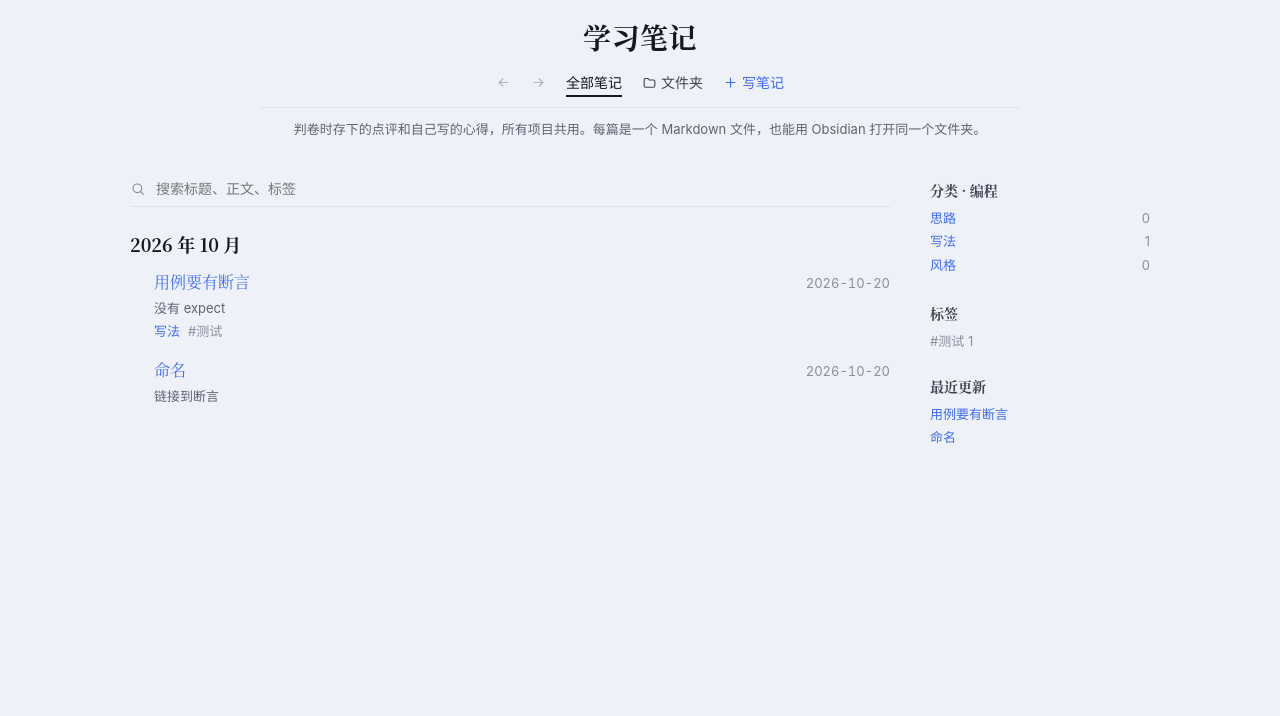
NotesView › editing a rename asks to update links, then returns to reading
Click the link with class "post-title" below "2026 年 10 月" at (202, 281), box x1=154 y1=270 x2=250 y2=292
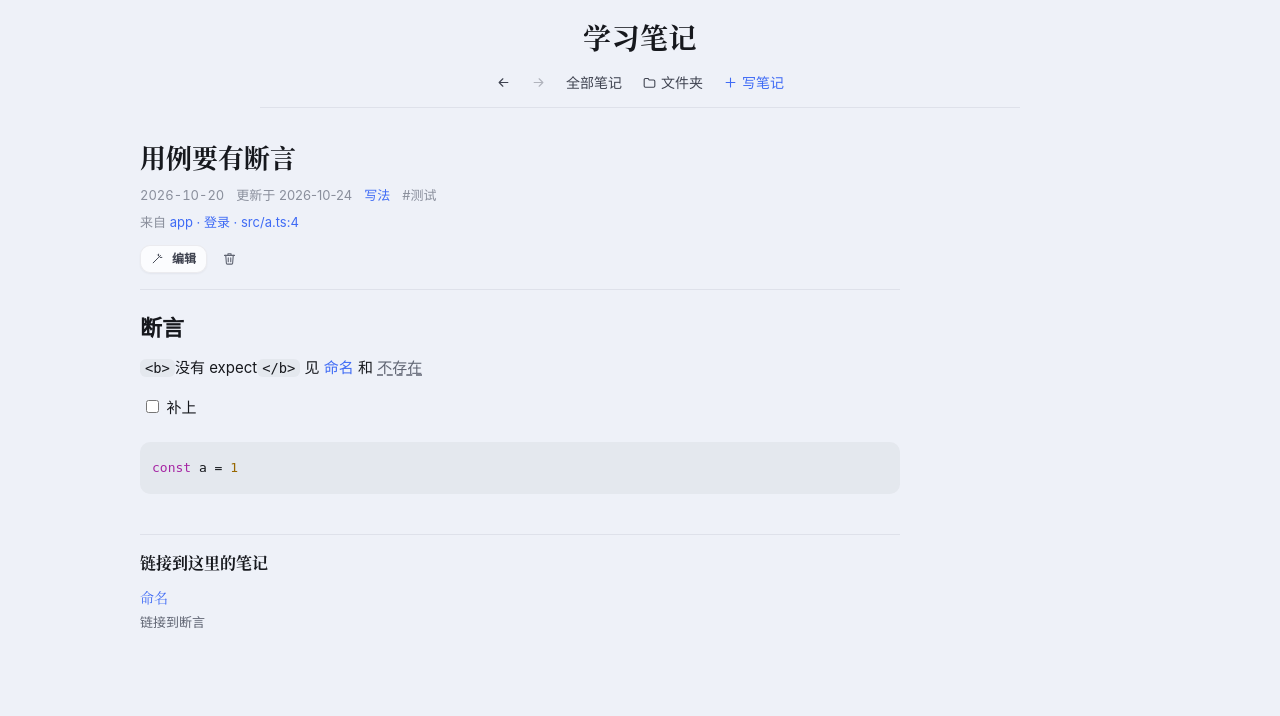
Click the button "编辑" at (174, 259), box x1=140 y1=245 x2=207 y2=273
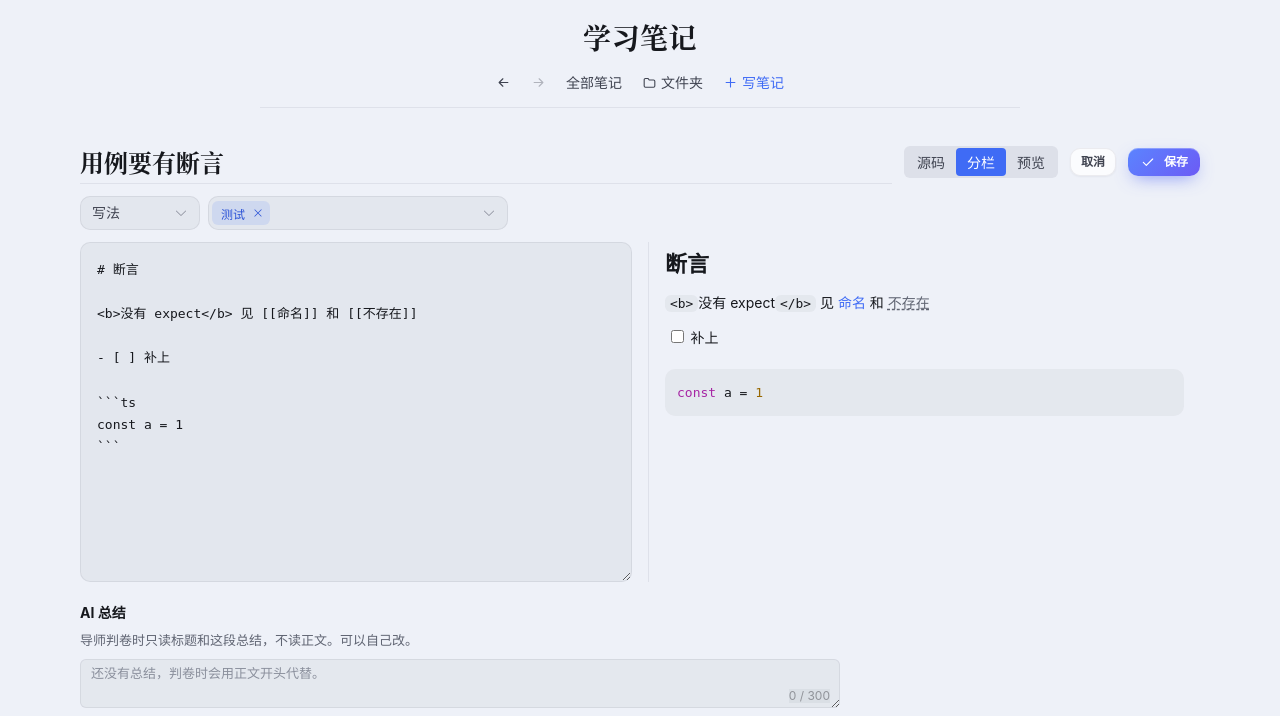
Replace the text in the field with class "note-title-input" with "断言" at (486, 162), box x1=80 y1=140 x2=892 y2=184
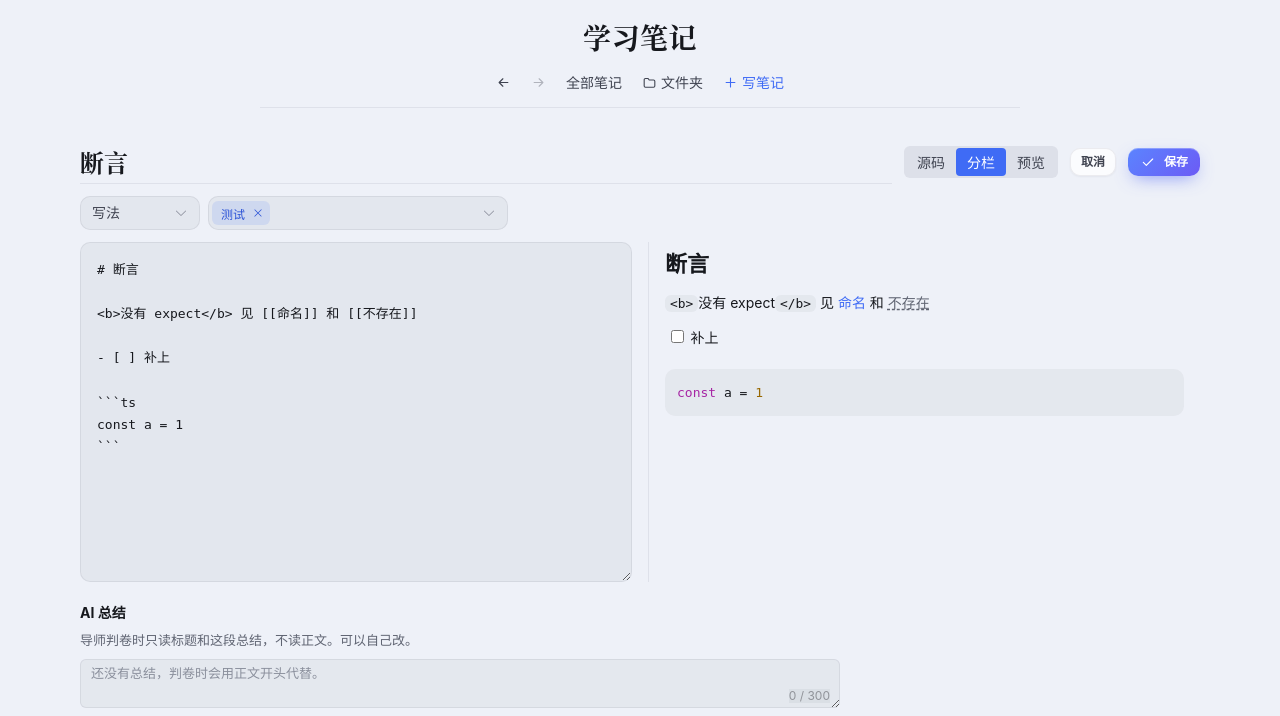
Click the button "保存" at (1164, 162), box x1=1128 y1=148 x2=1200 y2=176
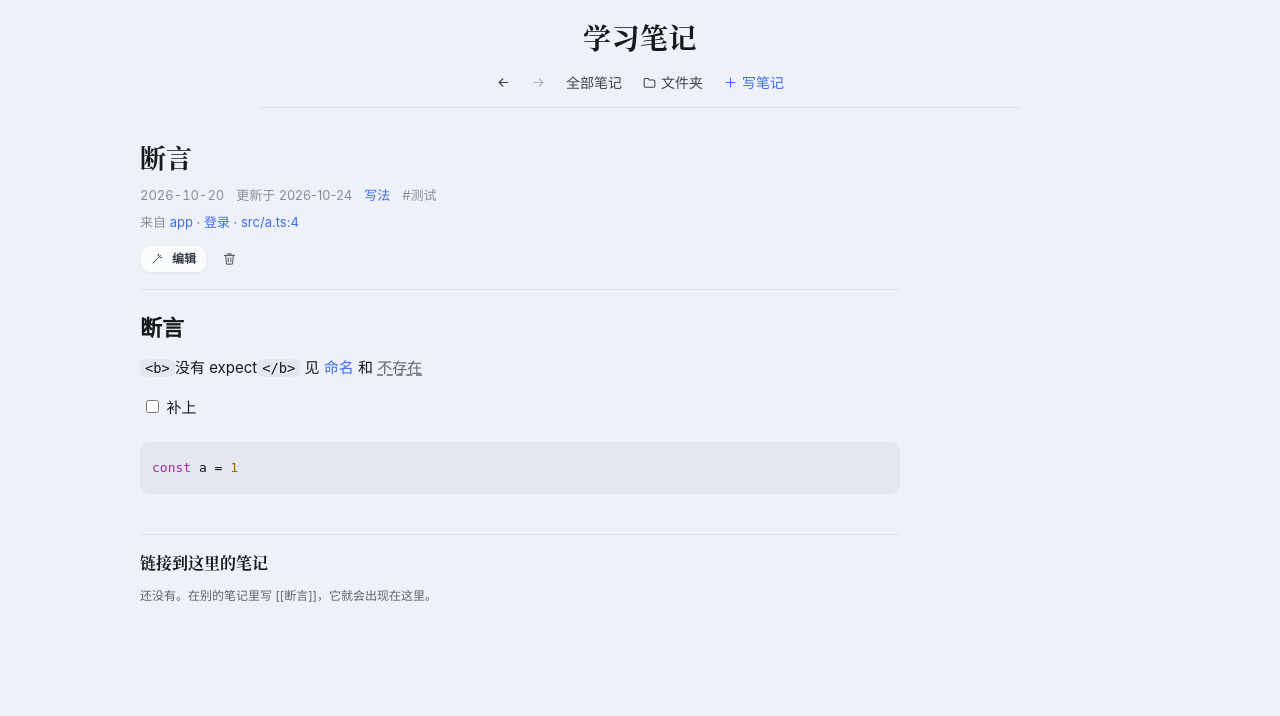
Result: the 1st heading "断言" is shown at x1=140 y1=138 x2=192 y2=175
